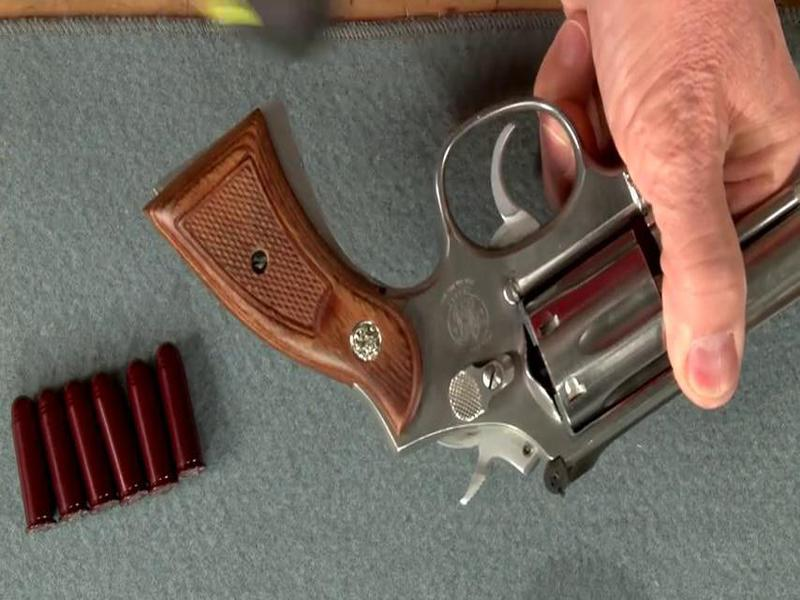Revolver: (96, 79, 794, 511)
